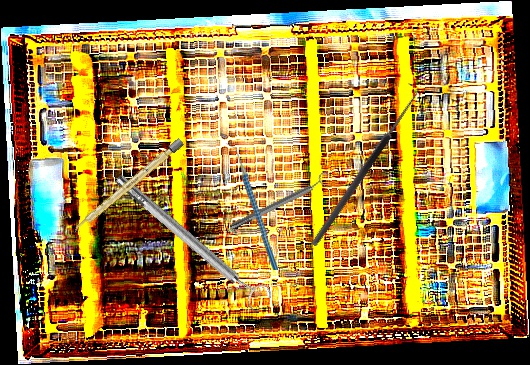Chopper: (222, 142, 281, 271)
Fixation Ring: (108, 165, 276, 316), (226, 170, 335, 235)
Hook Surgical: (302, 82, 424, 248)
Scalpel Handle: (70, 137, 185, 236)
